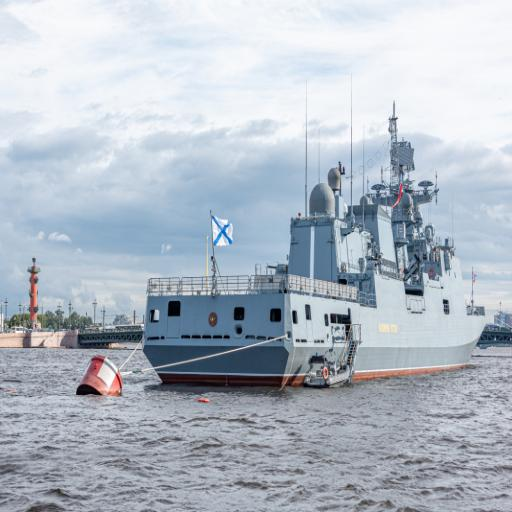Fragata: (140, 93, 489, 391)
